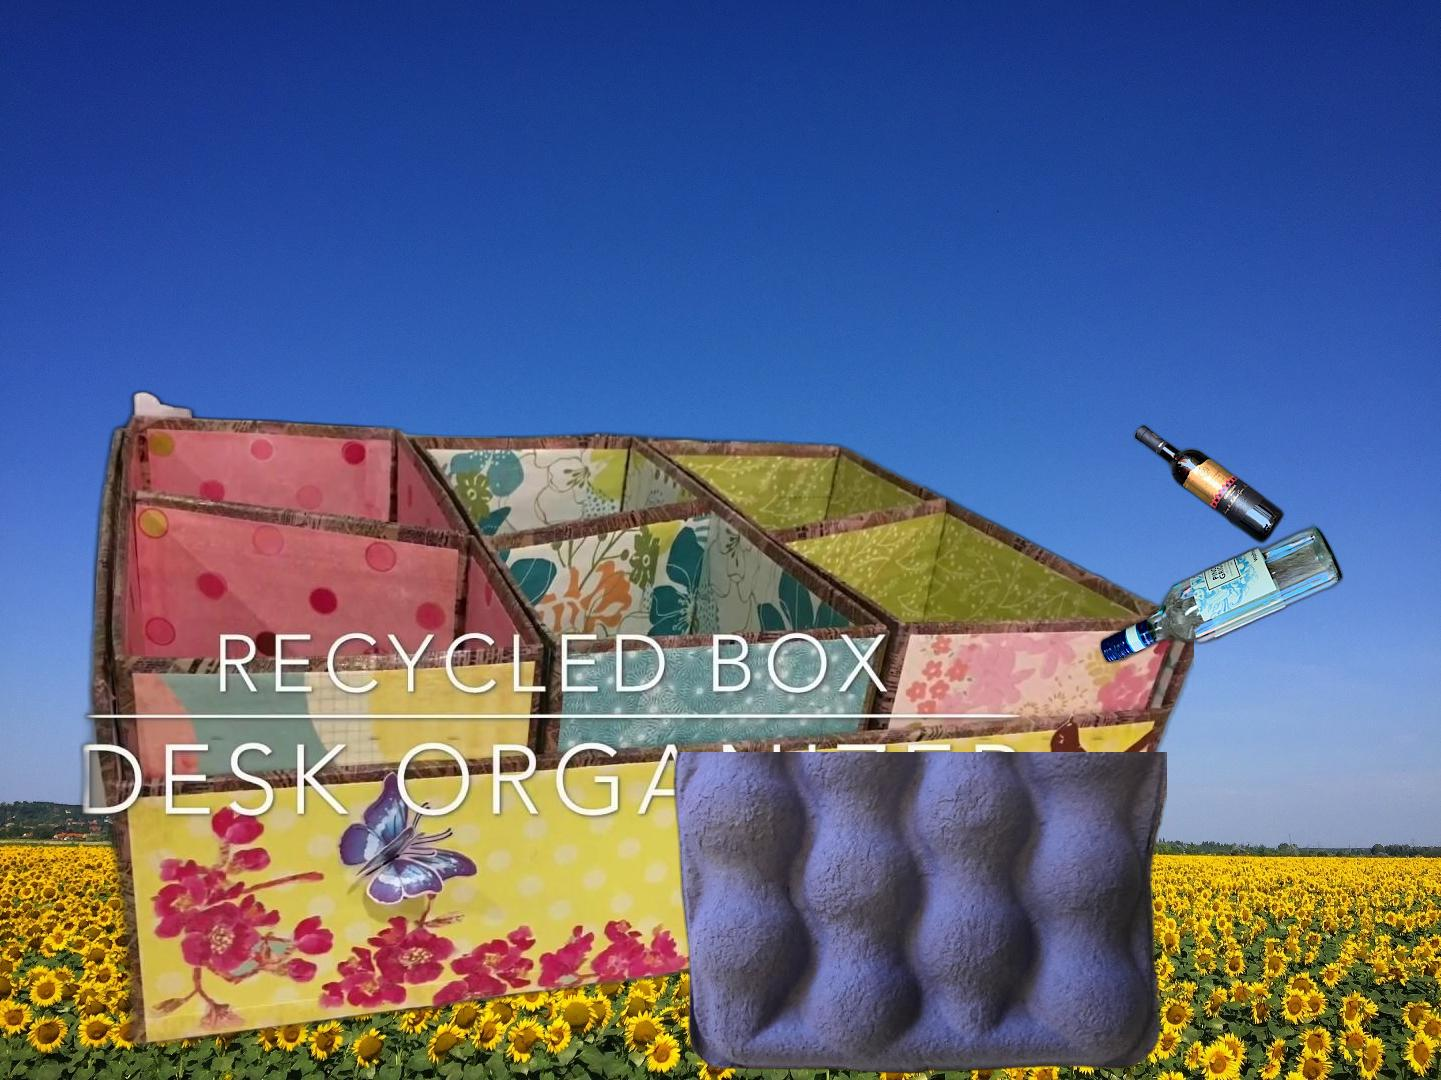glass: (1096, 520, 1348, 668), (1130, 419, 1289, 549)
paper: (669, 752, 1168, 1075)
trashbox-cardboard: (69, 386, 1194, 1052)
